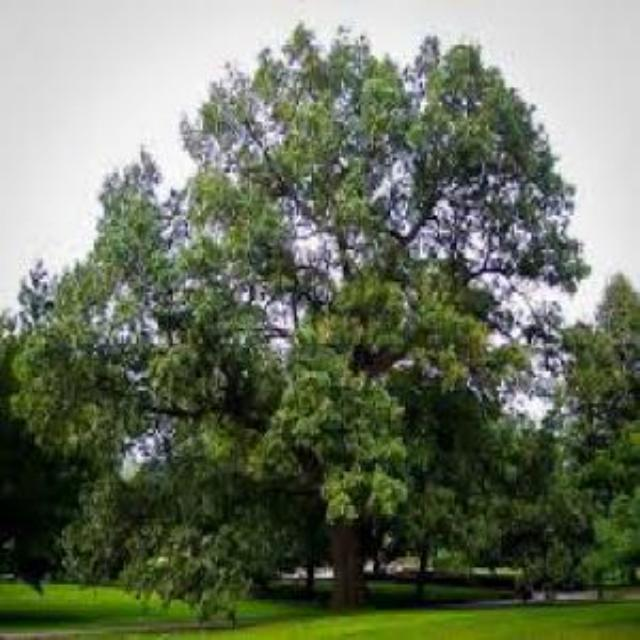tree: (60, 19, 584, 603)
